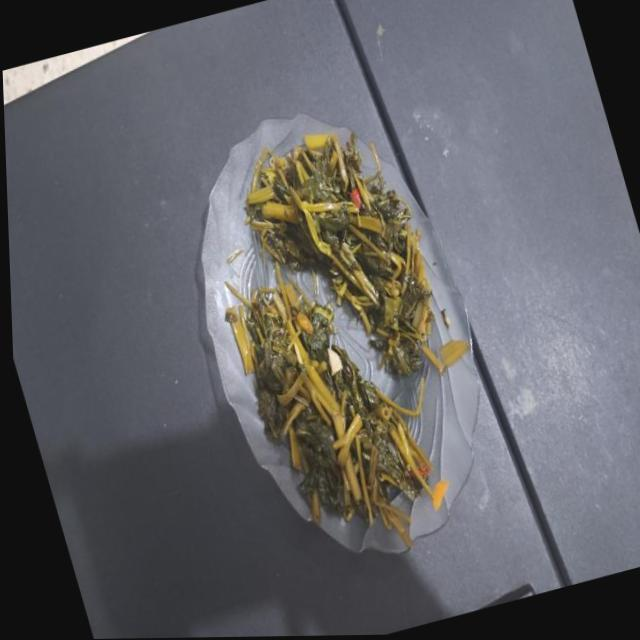tumis_kangkung: (247, 132, 467, 376), (224, 282, 433, 522)
